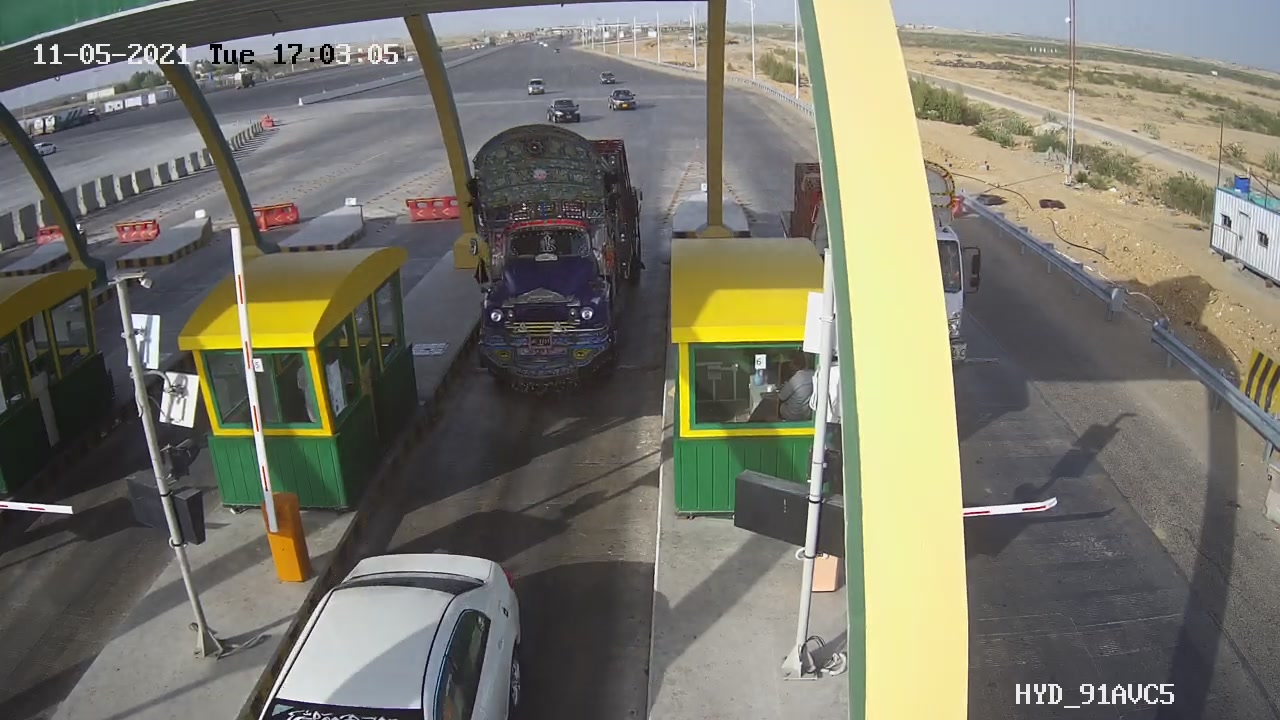F5: (431, 109, 669, 404)
